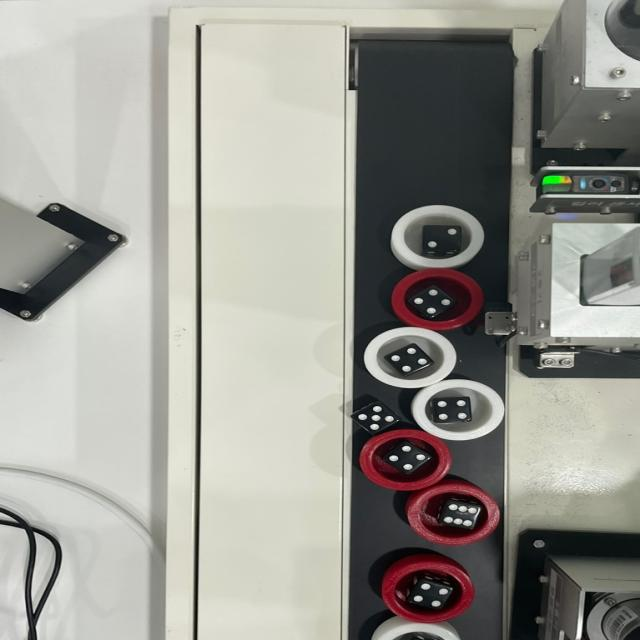DICE2: (424, 225, 466, 253)
DICE4: (386, 441, 433, 471), (388, 342, 432, 373), (412, 288, 453, 314), (410, 582, 450, 608), (436, 395, 472, 420)
DICE5: (354, 403, 396, 431)
DICE6: (438, 501, 480, 527)
RedChip: (391, 268, 488, 330), (357, 430, 455, 491), (382, 558, 474, 621), (408, 484, 500, 546)
WhiteChip: (390, 203, 488, 271), (409, 378, 507, 440), (362, 327, 457, 389), (370, 623, 470, 640)
